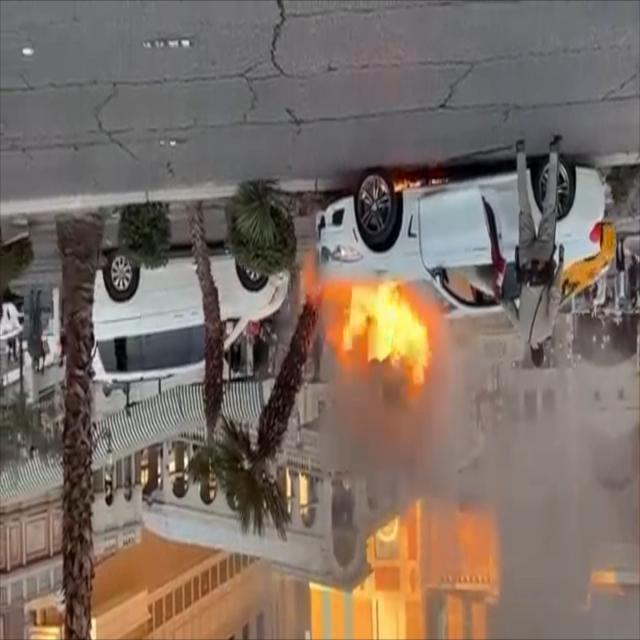fire: (310, 272, 434, 394)
